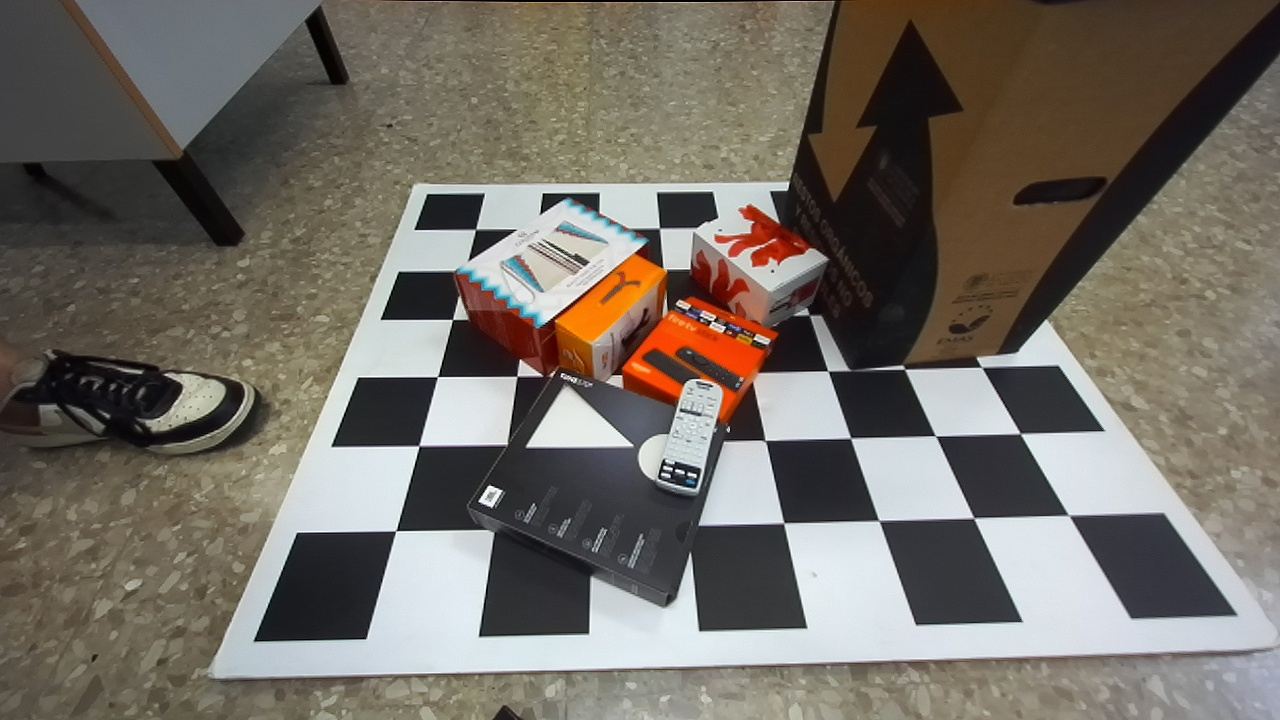caja_busbar: (455, 198, 646, 372)
caja_chasis: (466, 368, 728, 605)
caja_manguera: (623, 298, 776, 422)
caja_pcb: (557, 255, 665, 379)
caja_potencia: (690, 204, 826, 325)
